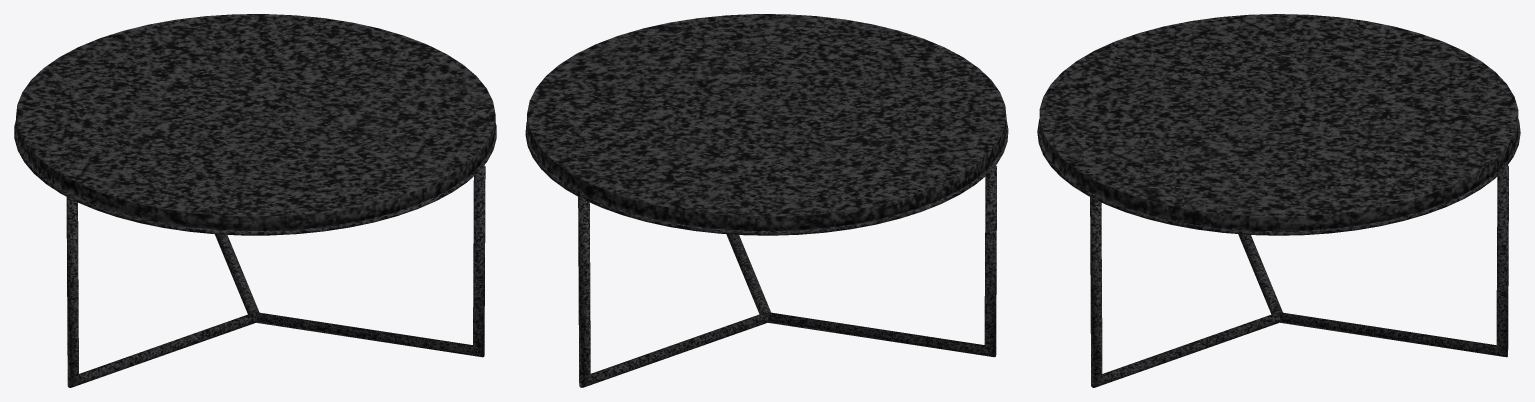
File: Table.fbx
The picture shows the model from 3 angles, left to right: view 1: azimuth 30°, elevation 25°; view 2: azimuth 150°, elevation 25°; view 3: azimuth 270°, elevation 25°; orthographic projection.
Parts seen in each view (by area): view 1: Table; view 2: Table; view 3: Table.
Part boxes in pixels (bbox=[...]): Table: bbox=[14, 14, 496, 387]; Table: bbox=[525, 14, 1008, 387]; Table: bbox=[1037, 14, 1520, 387].
Size of the model in its own units: 255 by 120 by 255.
